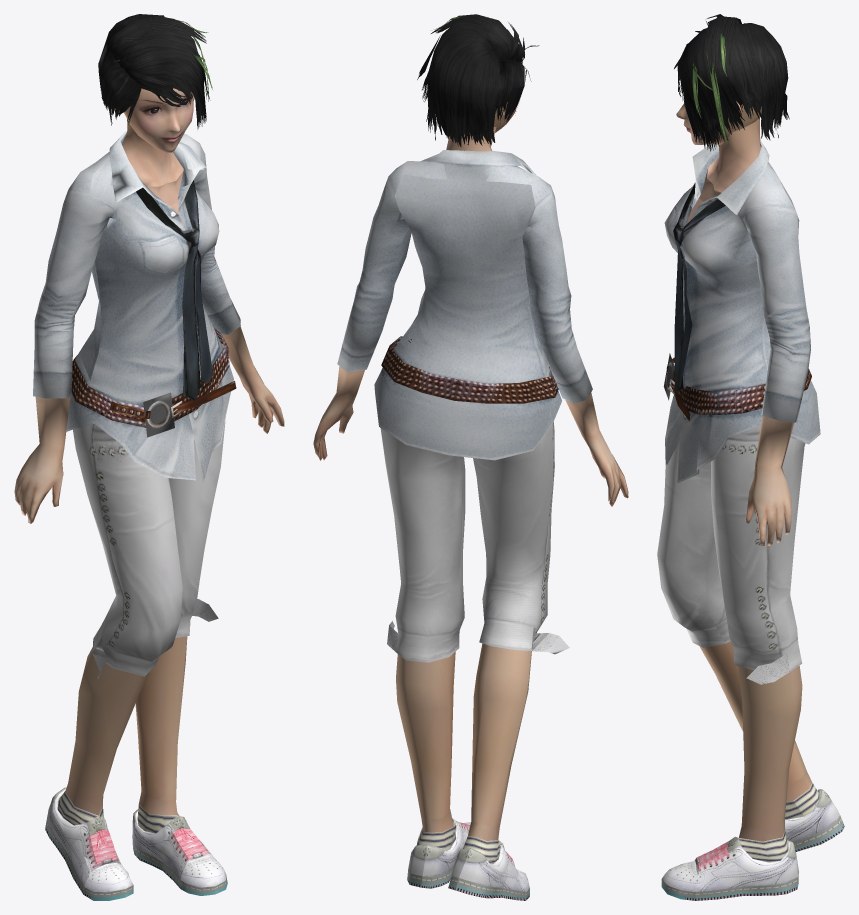
File: party_person_01.obj
3 renders of one model, left to right at view 1: azimuth 30°, elevation 25°; view 2: azimuth 150°, elevation 25°; view 3: azimuth 270°, elevation 25°, orthographic.
Parts seen in each view (by area): view 1: 51a67d0_obj, 51b7e58_obj, 51c2e90_obj, 10adf20_obj, 10a6e68_obj; view 2: 51a67d0_obj, 51b7e58_obj, 10adf20_obj, 51c2e90_obj; view 3: 51a67d0_obj, 51b7e58_obj, 10adf20_obj, 51c2e90_obj, 10a6e68_obj.
Part boxes in pixels (x1,y1,x2,y2): 51a67d0_obj: [14, 119, 284, 523]; 51b7e58_obj: [65, 421, 225, 815]; 51c2e90_obj: [45, 787, 227, 900]; 10adf20_obj: [98, 14, 212, 128]; 10a6e68_obj: [114, 88, 193, 152]; 51a67d0_obj: [313, 127, 628, 506]; 51b7e58_obj: [380, 339, 569, 840]; 10adf20_obj: [417, 14, 539, 147]; 51c2e90_obj: [407, 818, 529, 900]; 51a67d0_obj: [663, 118, 820, 546]; 51b7e58_obj: [657, 427, 812, 841]; 10adf20_obj: [674, 14, 789, 151]; 51c2e90_obj: [661, 782, 844, 900]; 10a6e68_obj: [676, 89, 761, 144].
Size of the model in its own units: 0.6002 by 1.75 by 0.3438.
6 materials, 6 textured.
